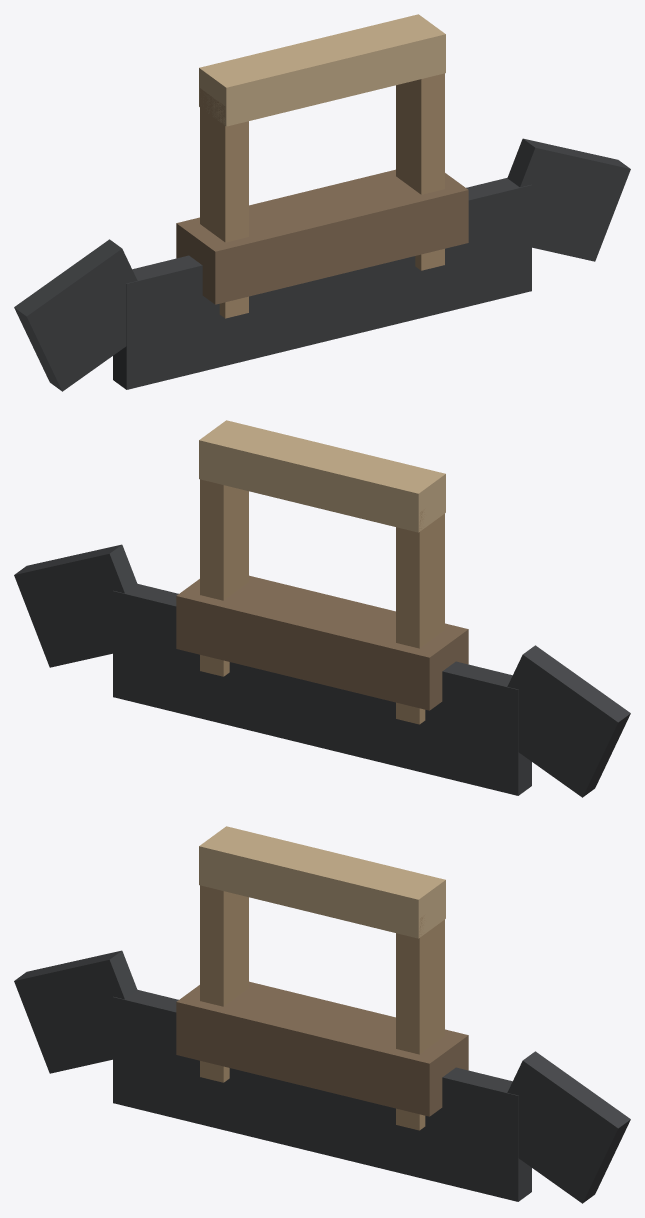
Rendered from sweat_scraper.glb.
3 views of the same model, one above another, from view 1: azimuth 30°, elevation 25°; view 2: azimuth 150°, elevation 25°; view 3: azimuth 330°, elevation 25° (orthographic).
Visible parts, largest first — view 1: sweat_scraper; view 2: sweat_scraper; view 3: sweat_scraper.
Part boxes in pixels (<box>): sweat_scraper: <box>14,14,630,391</box>; sweat_scraper: <box>14,420,630,797</box>; sweat_scraper: <box>14,826,630,1203</box>.
Size of the model in its own units: 0.3578 by 0.161 by 0.04.
